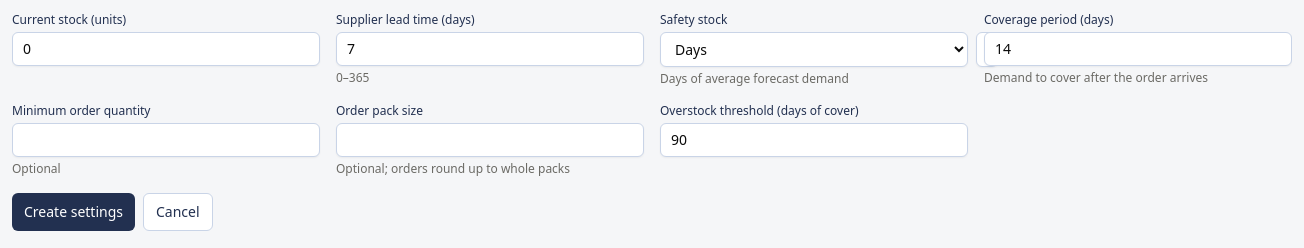
Test: InventoryForm › blocks negative stock and shows an actionable message
Replace the text in the field labelled "Current stock (units)" with "-5": (166, 49) [12,32,320,66]
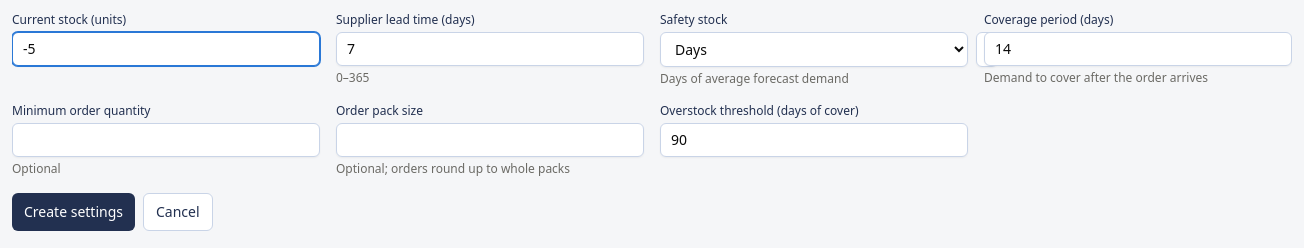
Click the button "Create settings": (74, 212) [12,193,135,231]
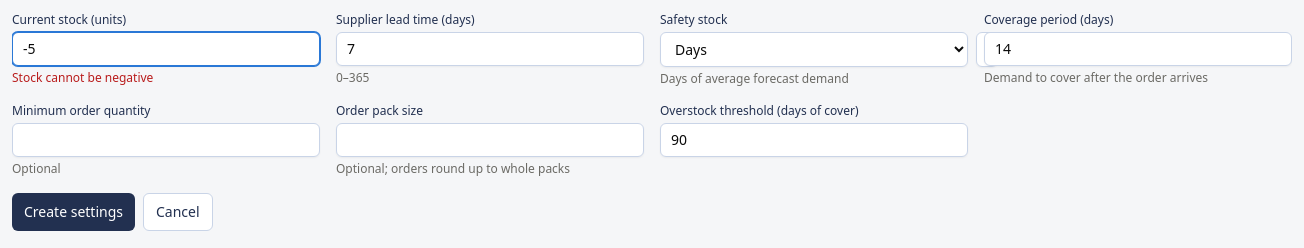
Result: the text "Stock cannot be negative" is shown at [12,69,153,86]
